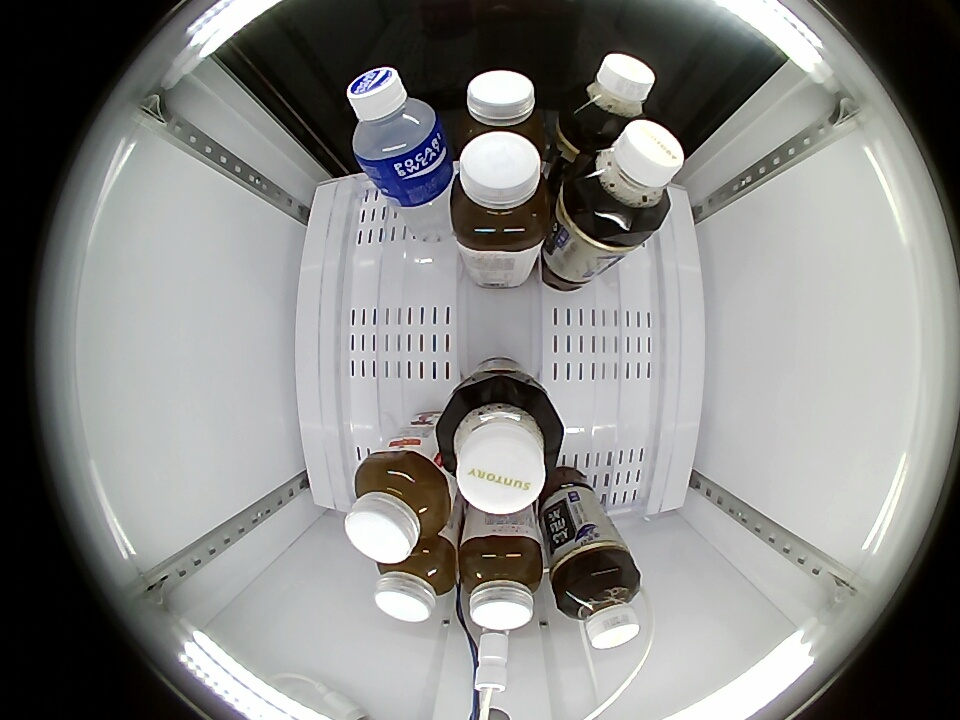baokuangli: (347, 65, 446, 180)
chapai: (450, 131, 552, 253), (345, 451, 453, 563), (459, 533, 544, 632), (459, 70, 552, 159), (375, 535, 457, 622)
wulongcha: (436, 375, 565, 515), (570, 119, 685, 237), (562, 52, 655, 144), (555, 562, 644, 650)
